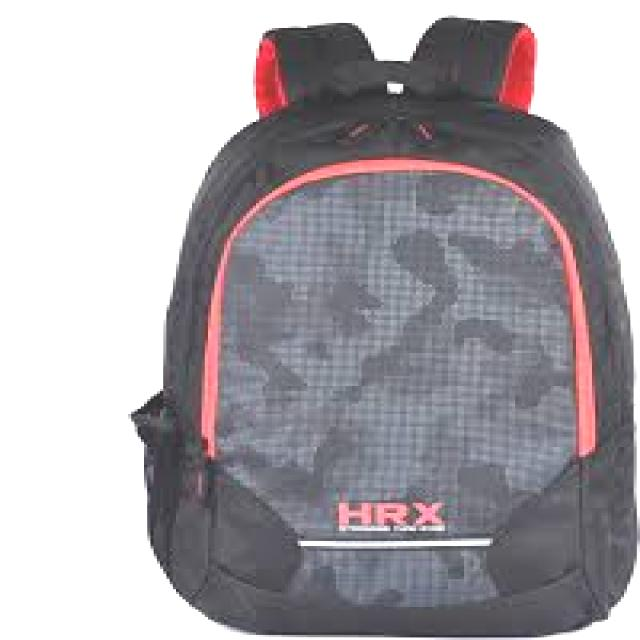backpack: (129, 17, 638, 639)
